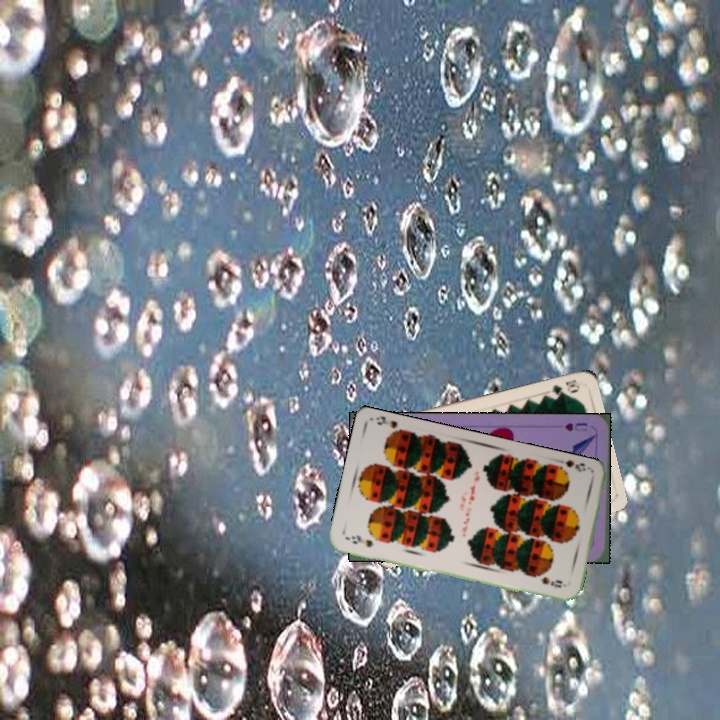G10: (547, 376, 582, 398)
HU: (561, 419, 590, 433)
S9: (342, 532, 377, 550), (553, 459, 588, 476)
